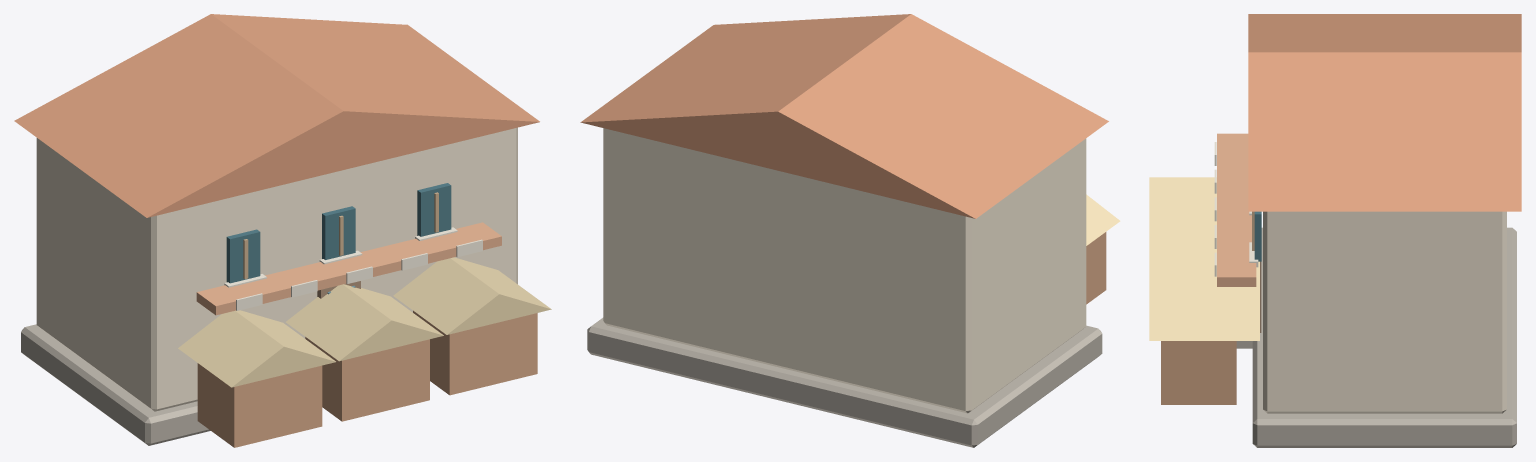
The model's file is fish_market_roof_near-CmGGt5d8.glb.
The picture shows the model from 3 angles, left to right: view 1: azimuth 30°, elevation 25°; view 2: azimuth 150°, elevation 25°; view 3: azimuth 270°, elevation 25°; orthographic projection. The views are drawn at different scales.
Visible parts, largest first — view 1: fish_market_roof_near; view 2: fish_market_roof_near; view 3: fish_market_roof_near.
Part boxes in pixels (box(x1,y1,x2,y2)): fish_market_roof_near: box(14, 14, 551, 447); fish_market_roof_near: box(580, 14, 1120, 447); fish_market_roof_near: box(1149, 14, 1521, 447).
Size of the model in its own units: 8.05 by 5.69 by 6.4.
